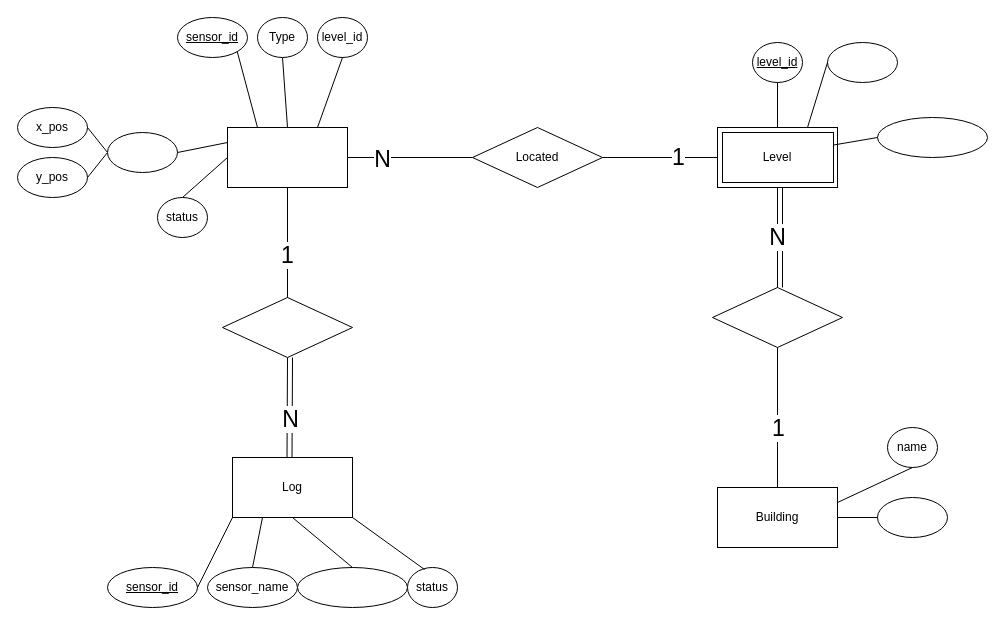
Some shapes in this 1005 by 625 pixel diagram are drawn without their labels. The shapes that lost their labels are listed below. From the top down, each one's box as (x1, y1, x2, y2) in pixels, then its label:
(826, 42, 898, 82): level_num
(106, 132, 178, 172): position
(226, 126, 348, 188): Sensor
(876, 116, 988, 158): img_file_path
(222, 296, 352, 358): Analysis & Generate
(712, 286, 842, 348): Has
(876, 496, 948, 538): building_id
(296, 566, 408, 608): last_update_time
